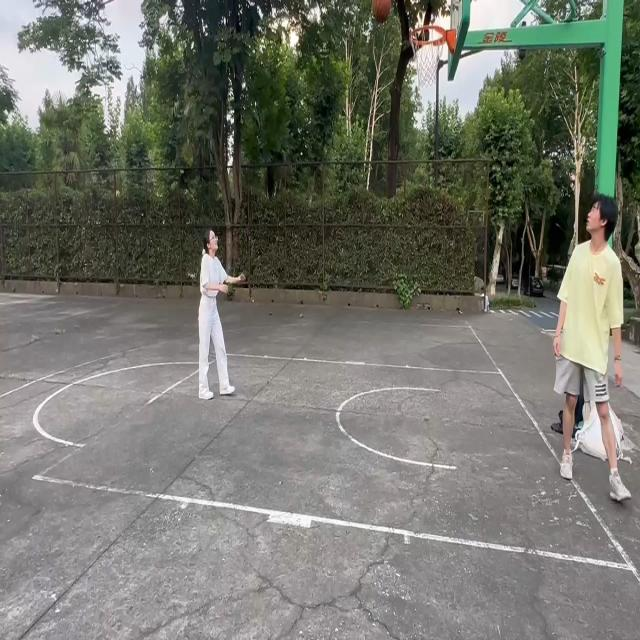basketball: (409, 24, 451, 91)
rim: (373, 0, 393, 21)
